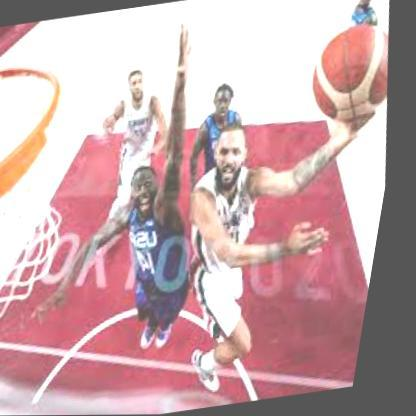basketball: (302, 20, 403, 131)
rim: (0, 55, 86, 226)
